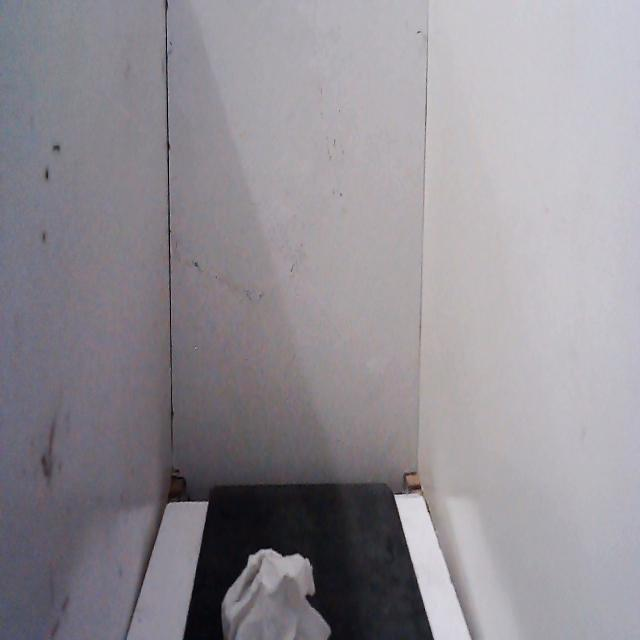papel: (215, 533, 335, 640)
